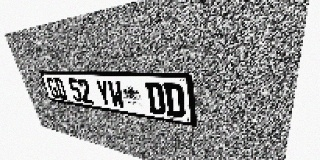2: (77, 79, 94, 104)
5: (68, 78, 84, 102)
D: (163, 83, 186, 118), (145, 82, 166, 115), (53, 77, 68, 100)
G: (46, 77, 60, 99)
W: (107, 80, 126, 109)
Y: (95, 79, 113, 107)
